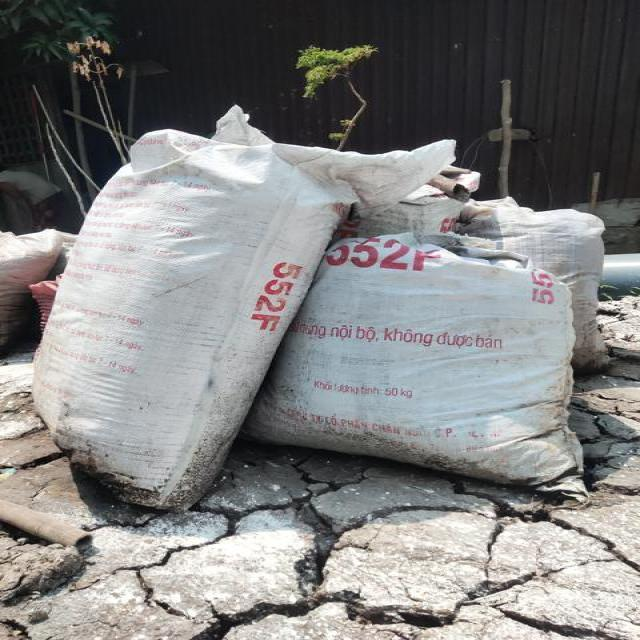gunny_bag: (32, 105, 455, 510), (245, 233, 583, 486)
